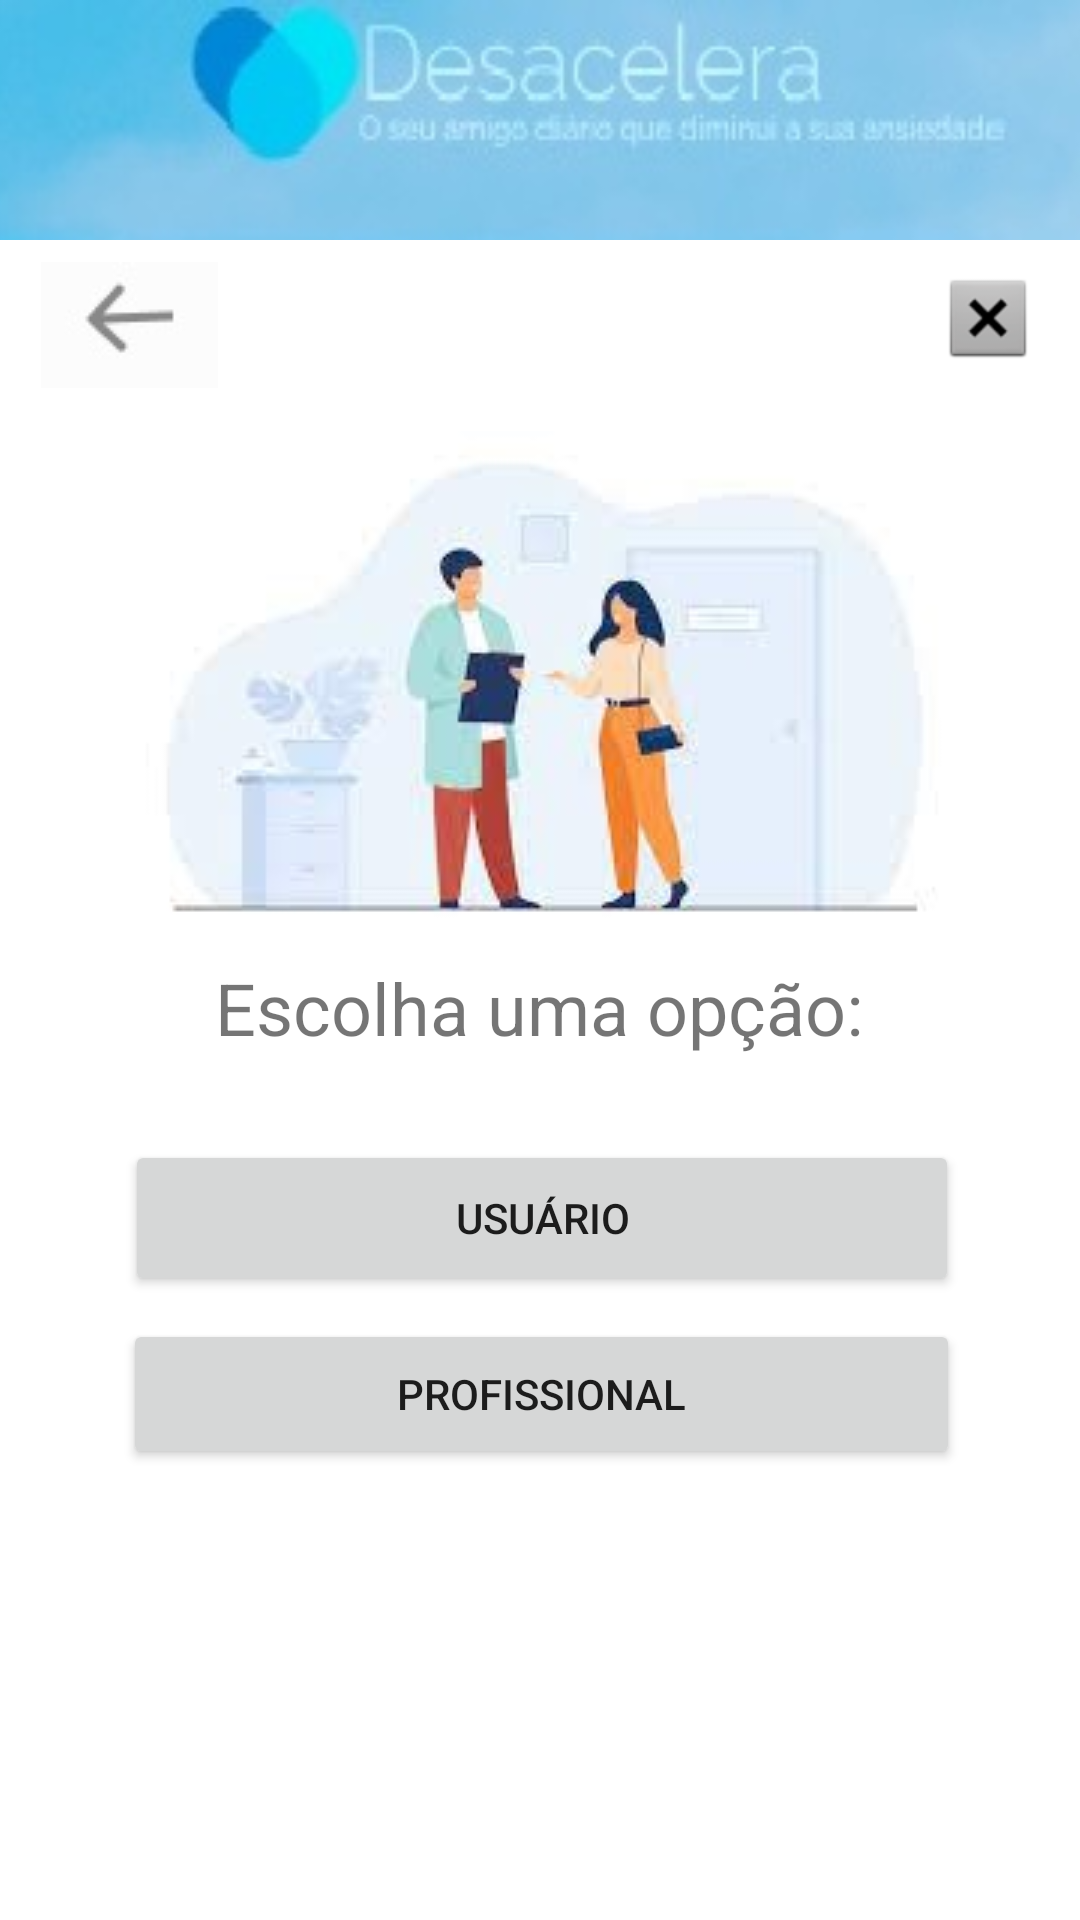

Icon bounding boxes for this 1080px×1920px phone screenshot, format (left=x1, top=y1, right=x2, bottom=y2):
fig voltar: (left=86, top=284, right=174, bottom=353)
